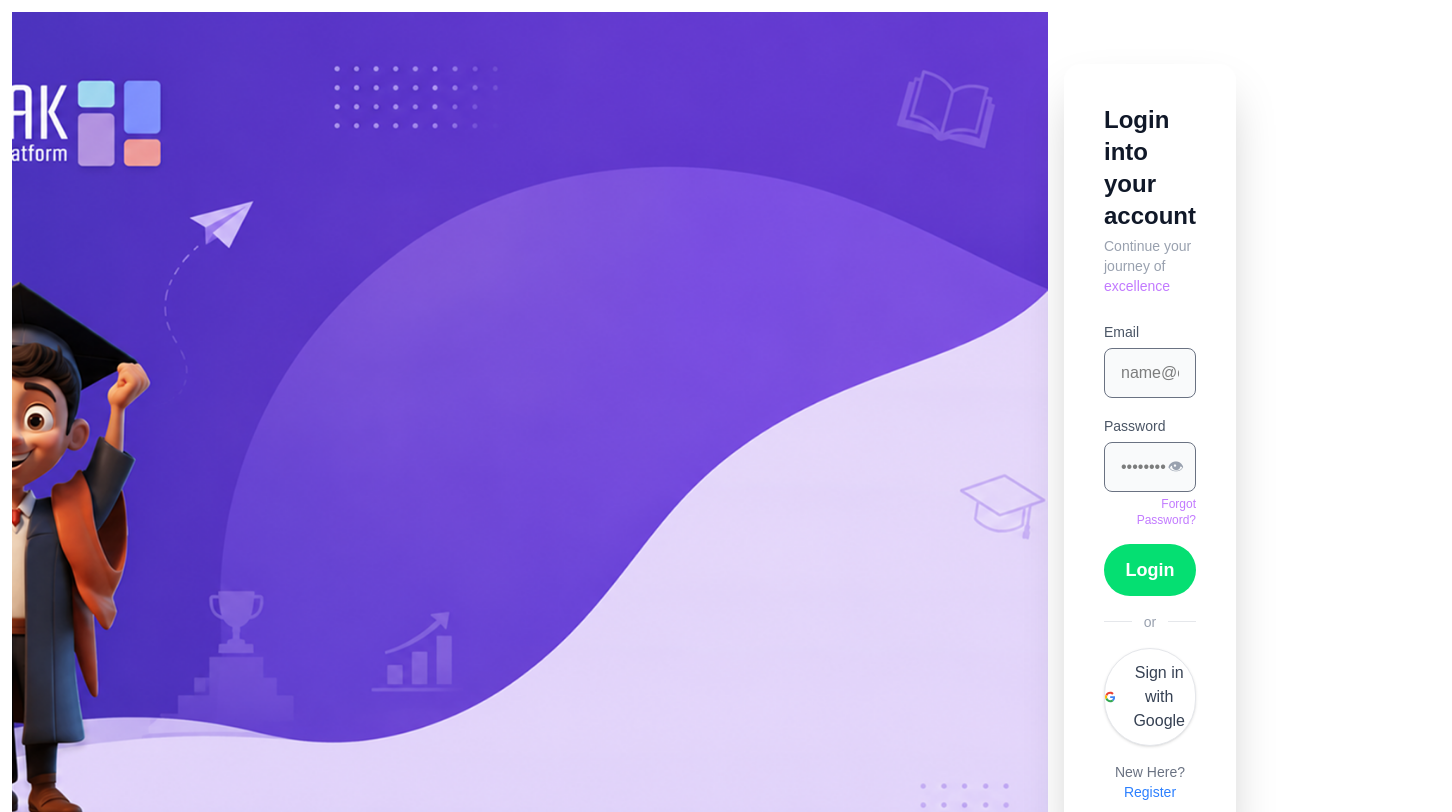
Scenario: LoginPage › should show error on failed login
Type "test@test.com" into the field with placeholder "name@example.com" at (1150, 373), box [1104,348,1196,398]
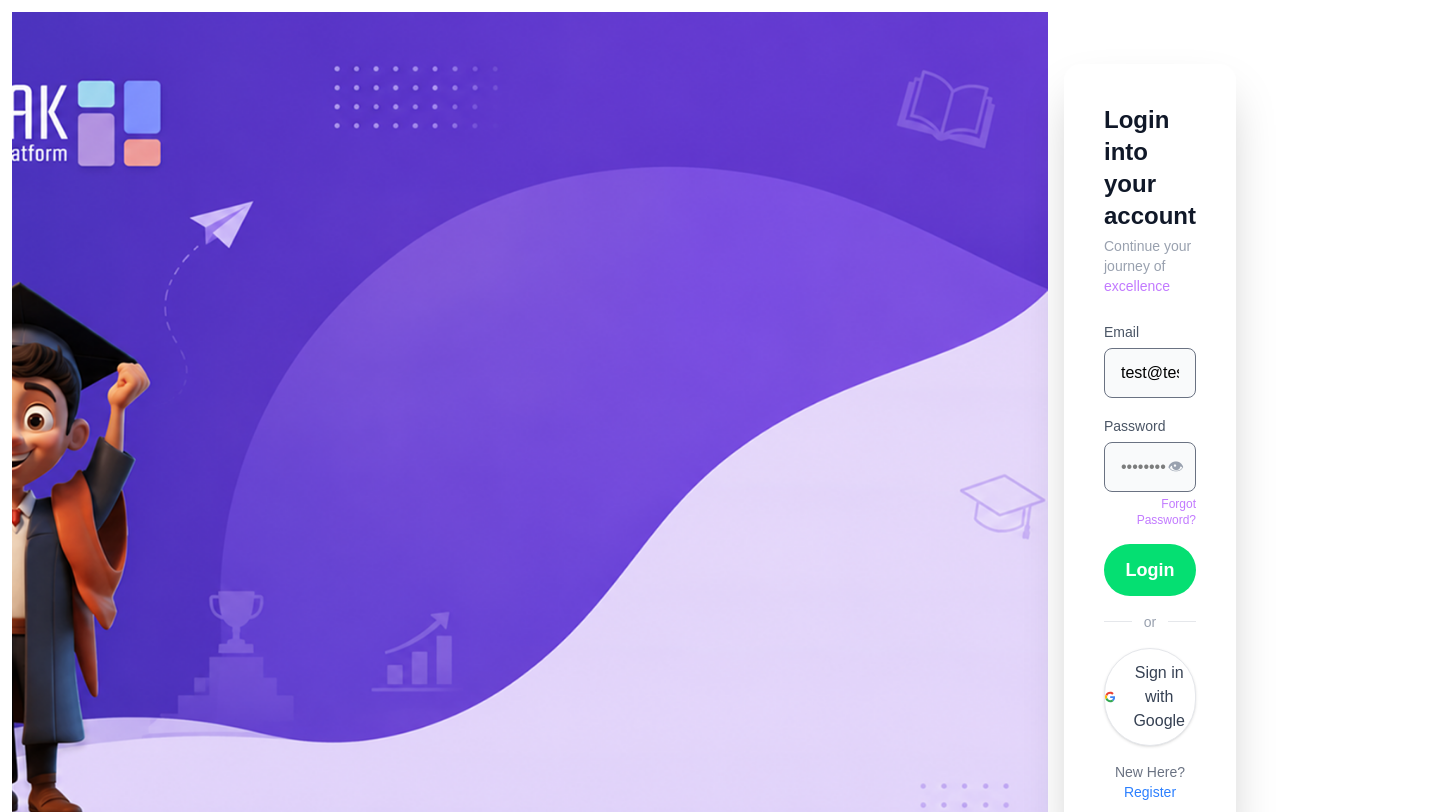
Type "wrongpass" into the password field with placeholder "••••••••" at (1150, 467), box [1104,442,1196,492]
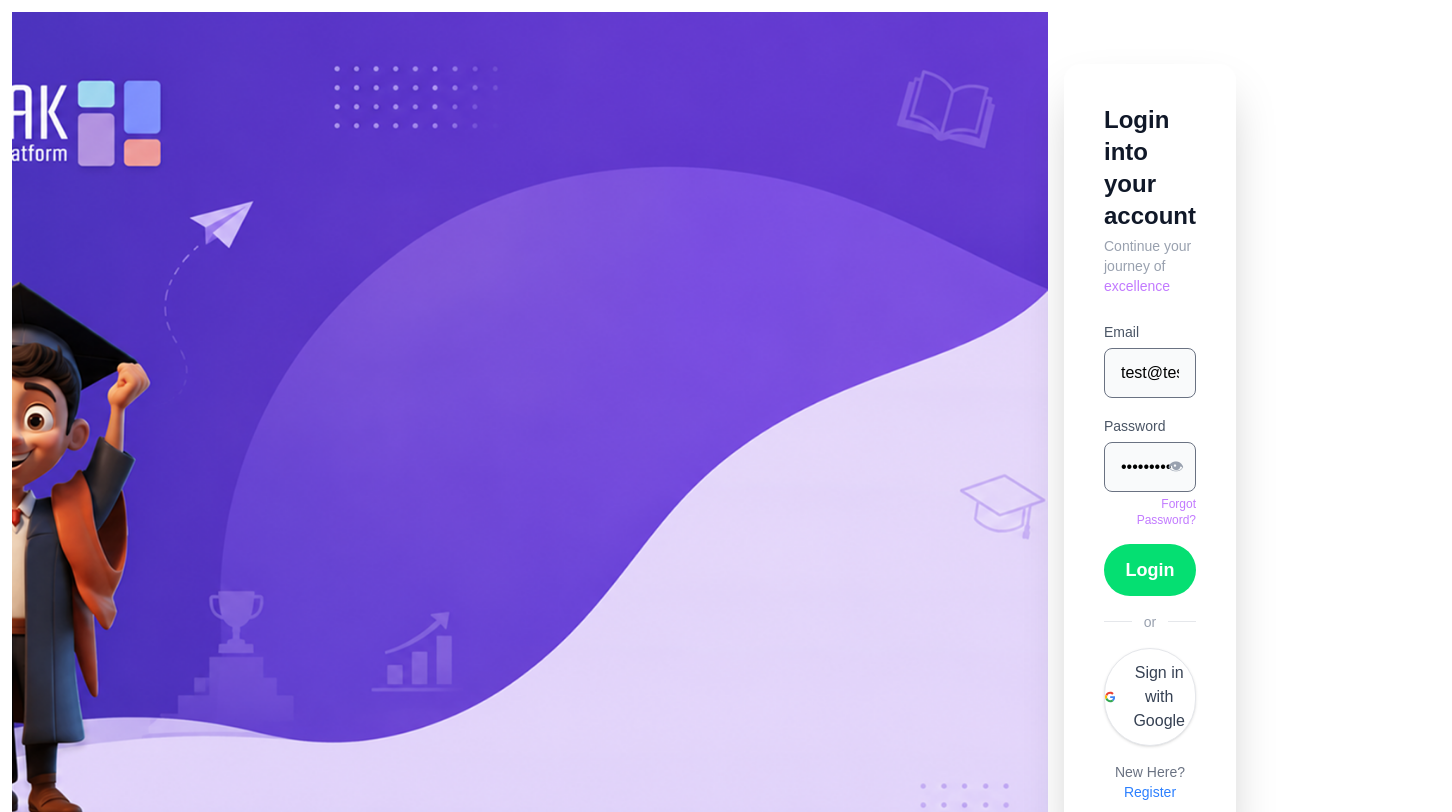
Click the button "Login" at (1150, 570), box [1104,544,1196,596]
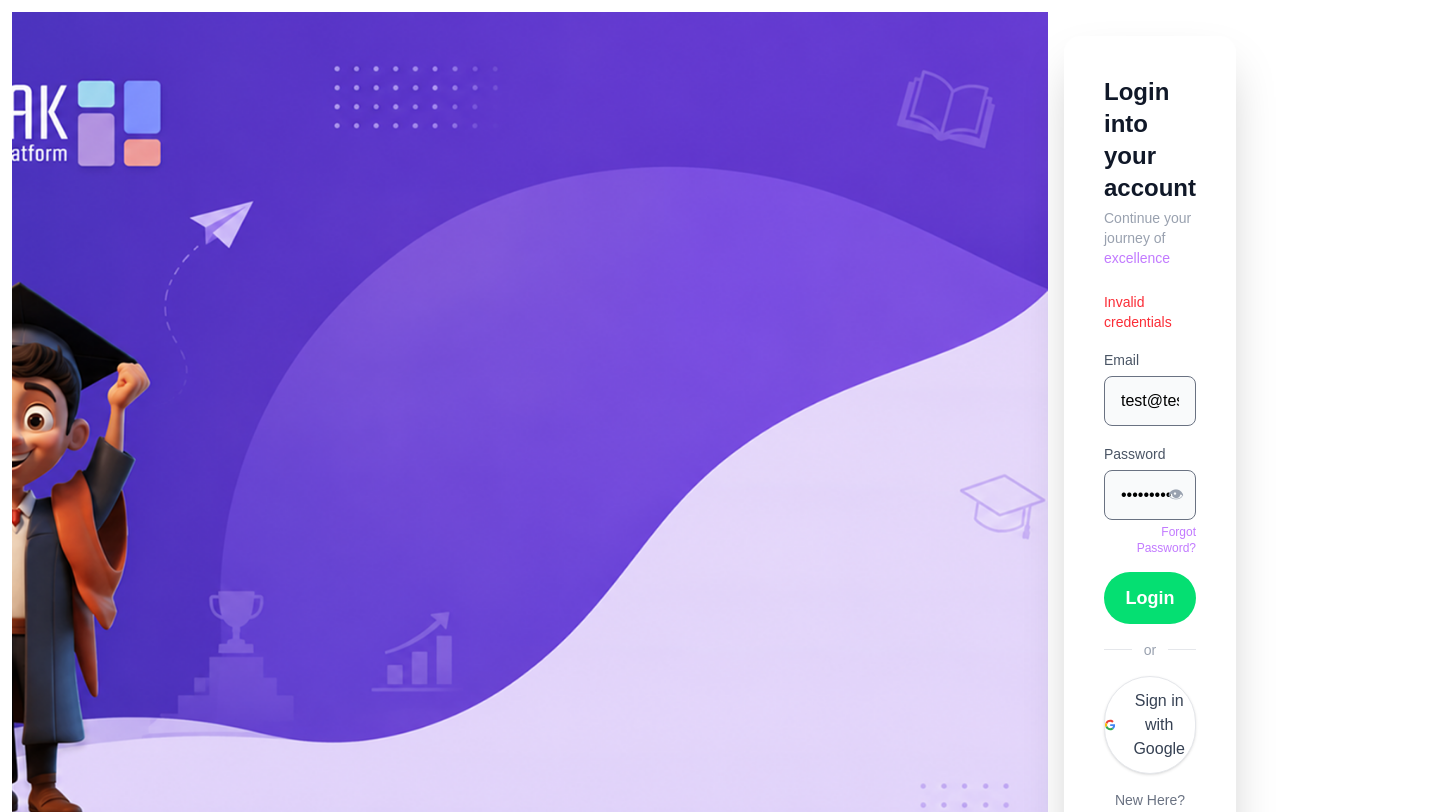
Expected: the text "Invalid credentials" is shown, [1104,294,1172,330]
